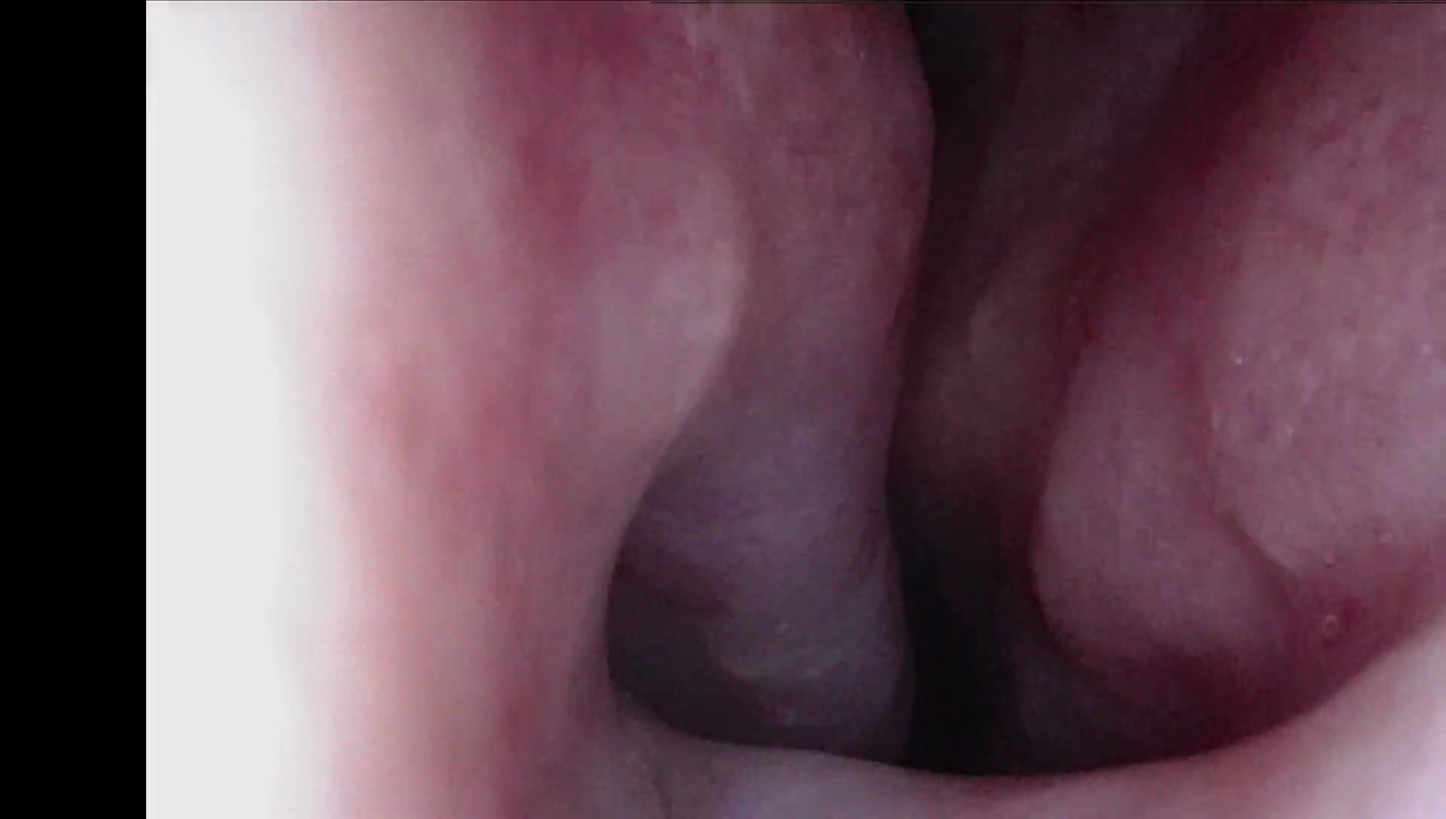close_wall: (151, 8, 676, 819)
next: (867, 434, 1104, 788), (596, 529, 846, 753), (858, 0, 1066, 174)
